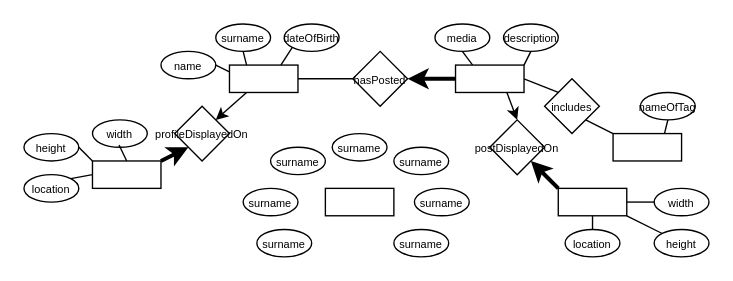
This 733x281 diagram has some shape labels left out. The centre of each missing label's shape, as x and y in pixels:
Animal: (359,201)
Post: (489,78)
PostFrame: (592,201)
Profile: (263,78)
ProfileFrame: (126,174)
Tag: (647,146)
